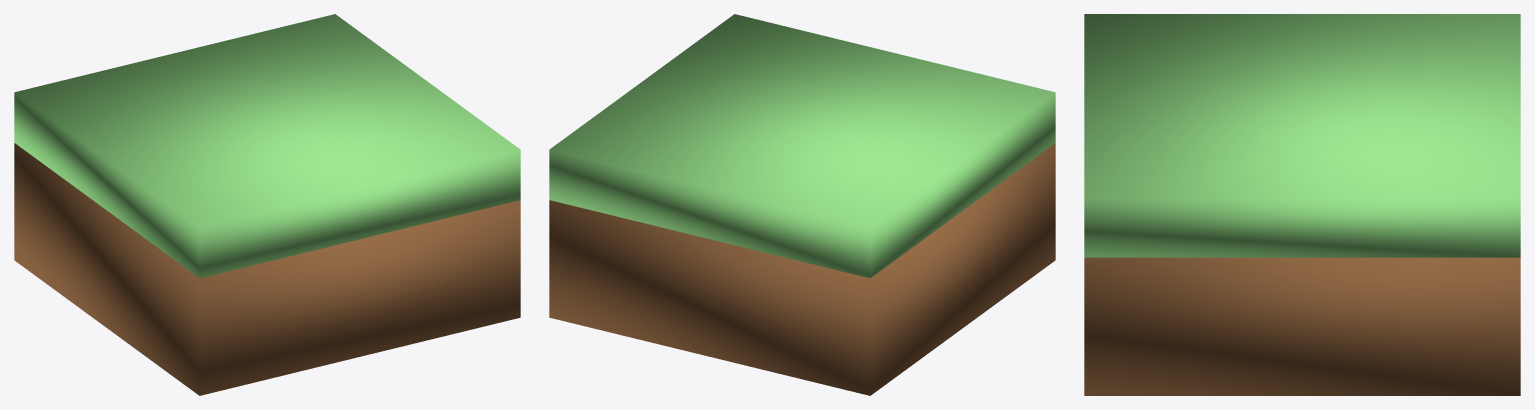
Rendered from Grass Block - Half.glb.
3 views of the same model, side by side, from view 1: azimuth 30°, elevation 25°; view 2: azimuth 150°, elevation 25°; view 3: azimuth 270°, elevation 25° (orthographic). The views are drawn at different scales.
Parts seen in each view (by area): view 1: Half Block; view 2: Half Block; view 3: Half Block.
Part boxes in pixels (x1=…): Half Block: x1=14, y1=14, x2=520, y2=395; Half Block: x1=549, y1=14, x2=1055, y2=395; Half Block: x1=1084, y1=14, x2=1520, y2=395.
Size of the model in its own units: 2 by 1 by 2.
